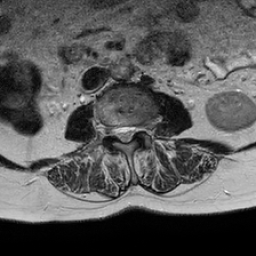CCS_normal: (121, 117, 128, 149)
LFS_stenosis: (136, 116, 144, 141)
LLS_normal: (128, 116, 136, 145)
RFS_normal: (104, 115, 113, 142)
RLS_normal: (113, 117, 121, 146)
